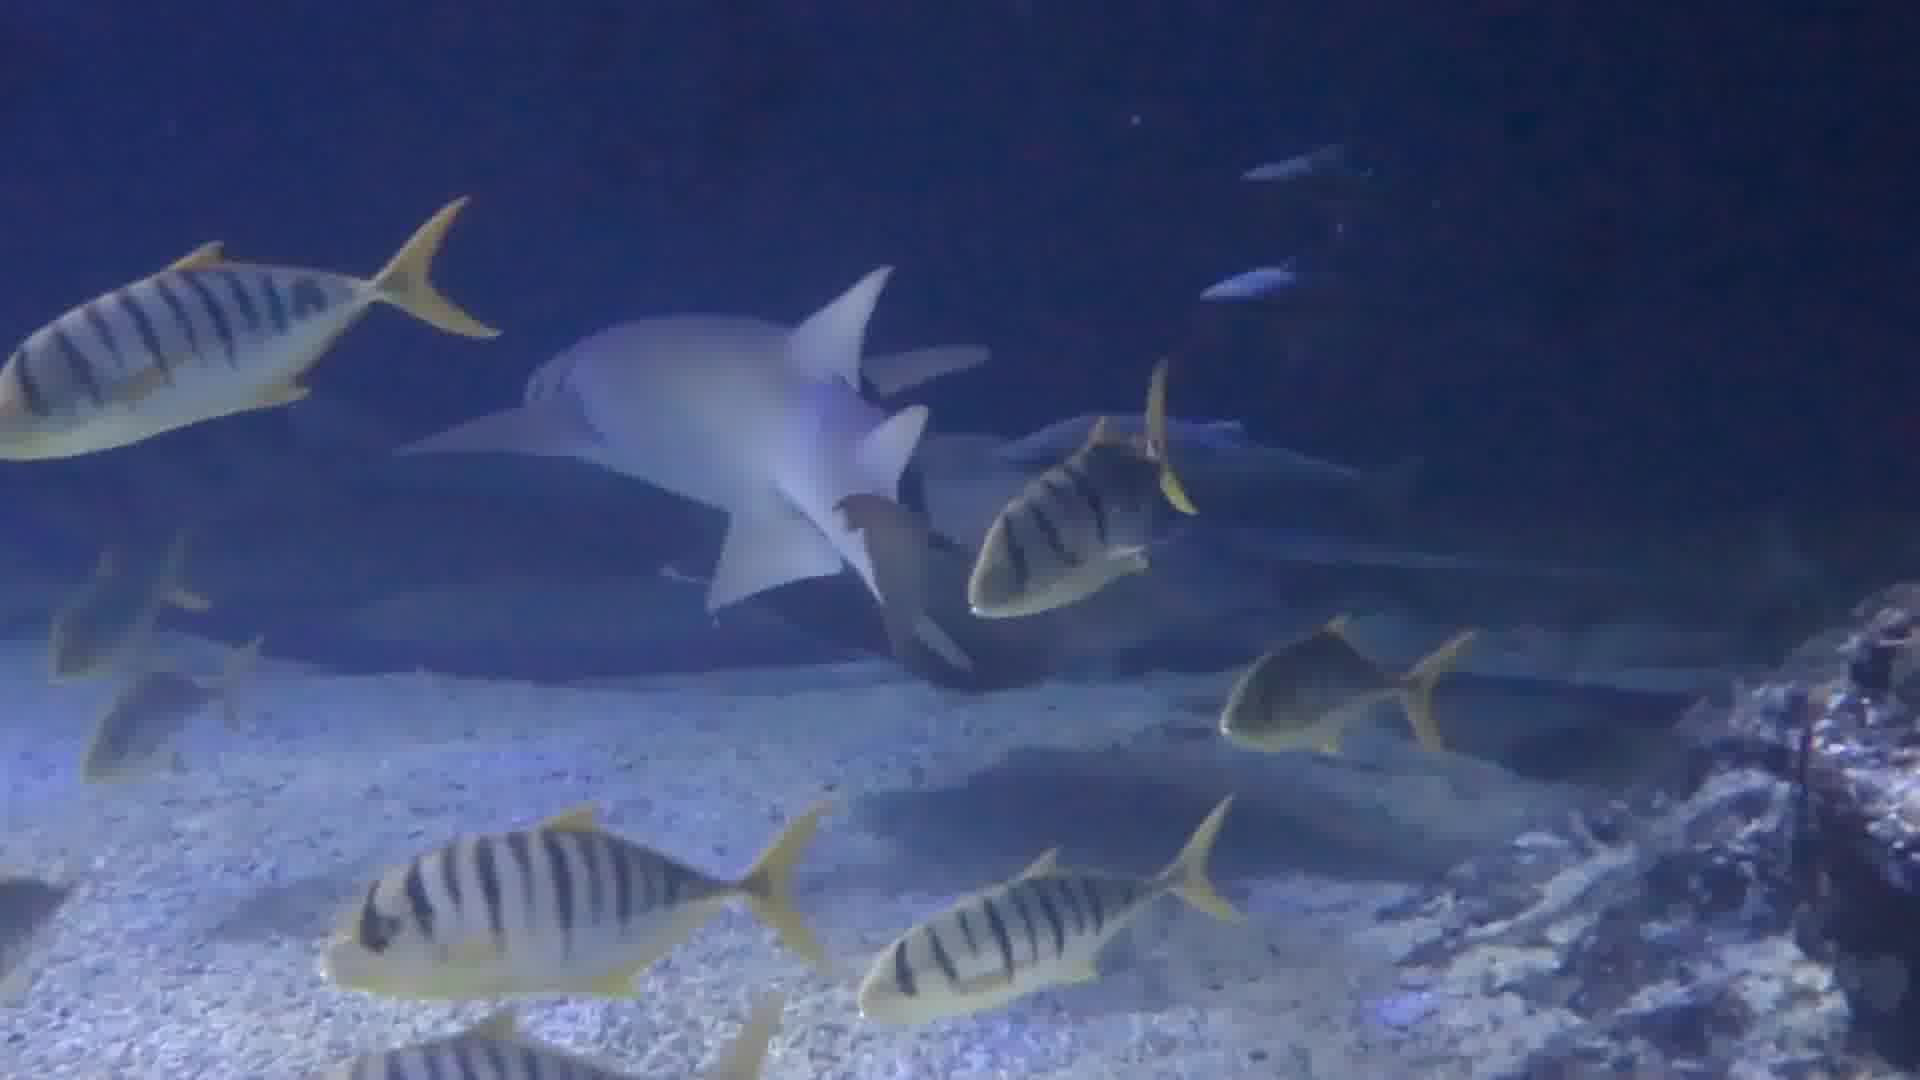Nebrius ferrugineus: (508, 324, 897, 531)
